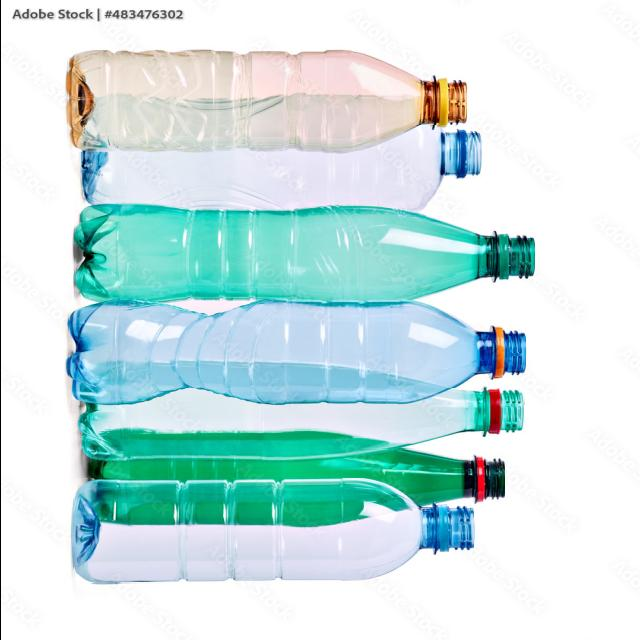bottle: (68, 300, 524, 405), (74, 204, 533, 301), (73, 478, 472, 583), (67, 50, 465, 152), (82, 125, 479, 211), (79, 389, 522, 459), (89, 449, 504, 506)
